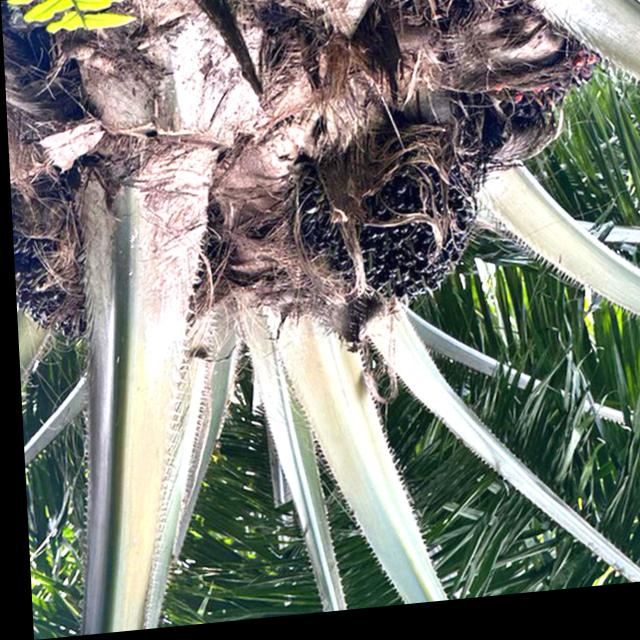unripe: (277, 114, 491, 326), (8, 178, 103, 354)
